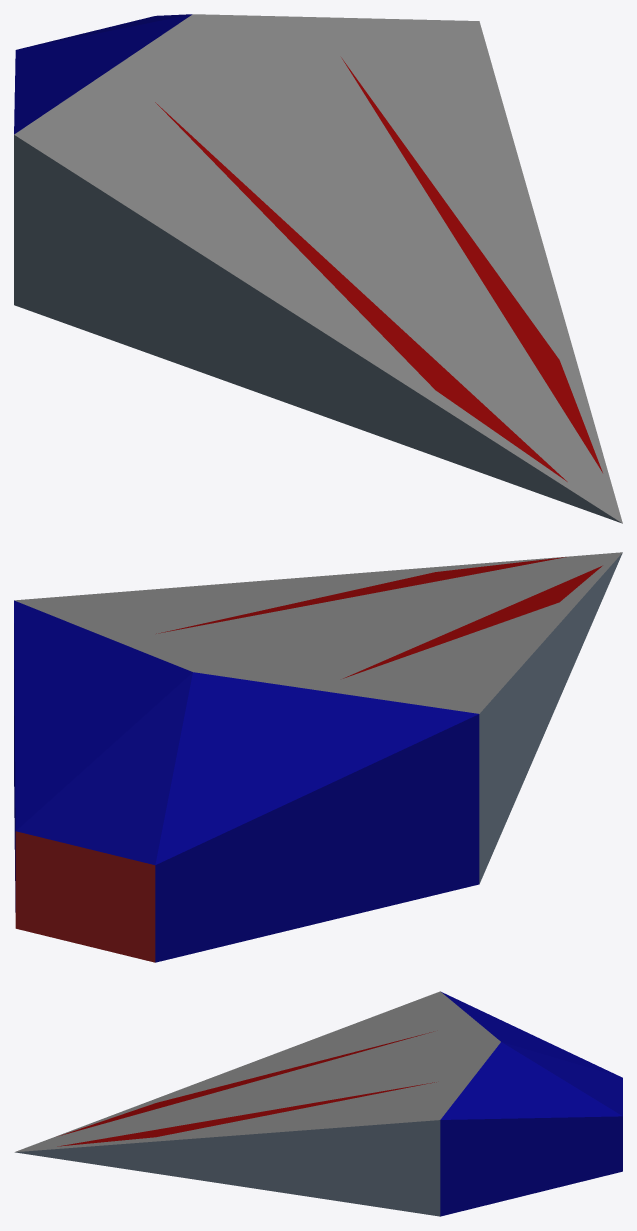
The model's file is ferdelance.obj.
3 views of the same model, one above another, from view 1: azimuth 30°, elevation 25°; view 2: azimuth 150°, elevation 25°; view 3: azimuth 270°, elevation 25° (orthographic). The views are drawn at different scales.
Size of the model in its own units: 80 by 32 by 160.
